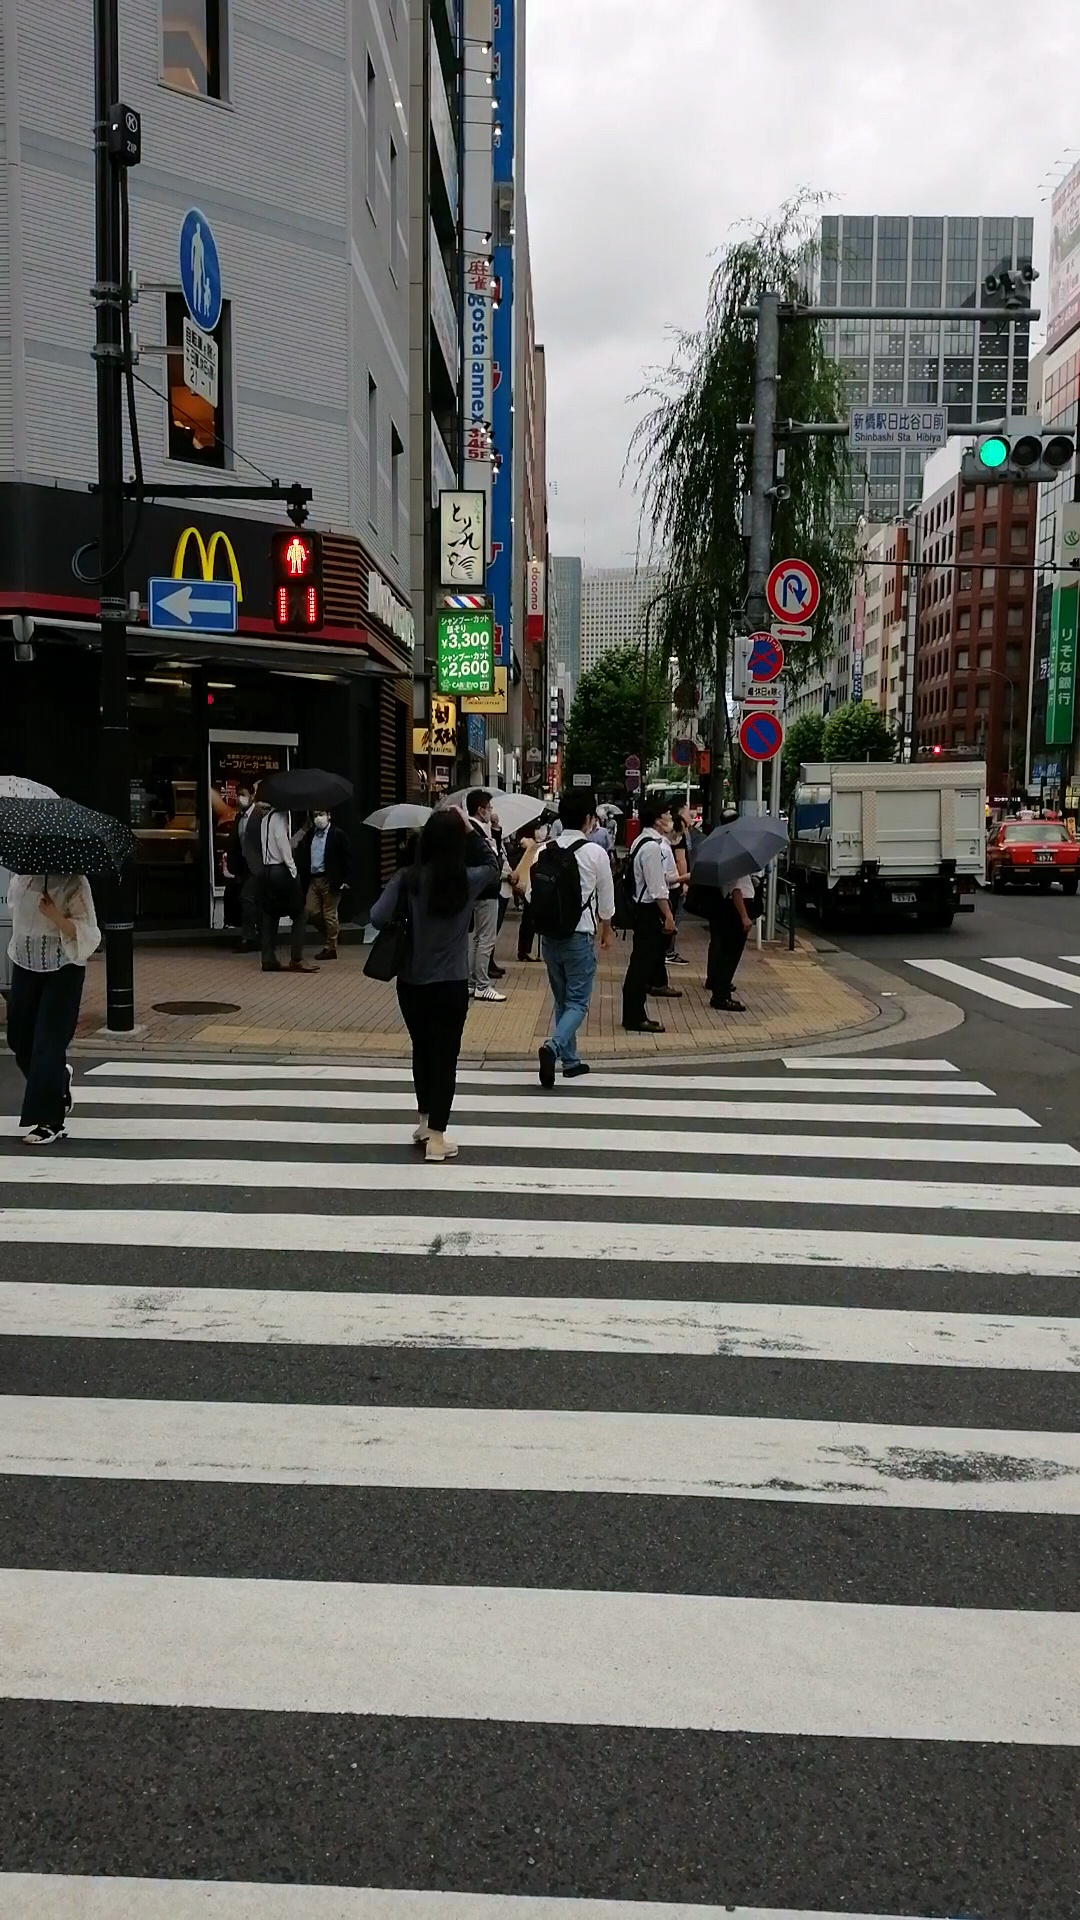red: (272, 530, 324, 628)
